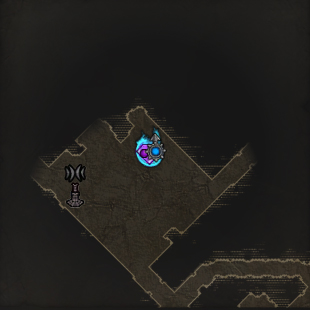Urushi: (137, 127, 164, 167)
